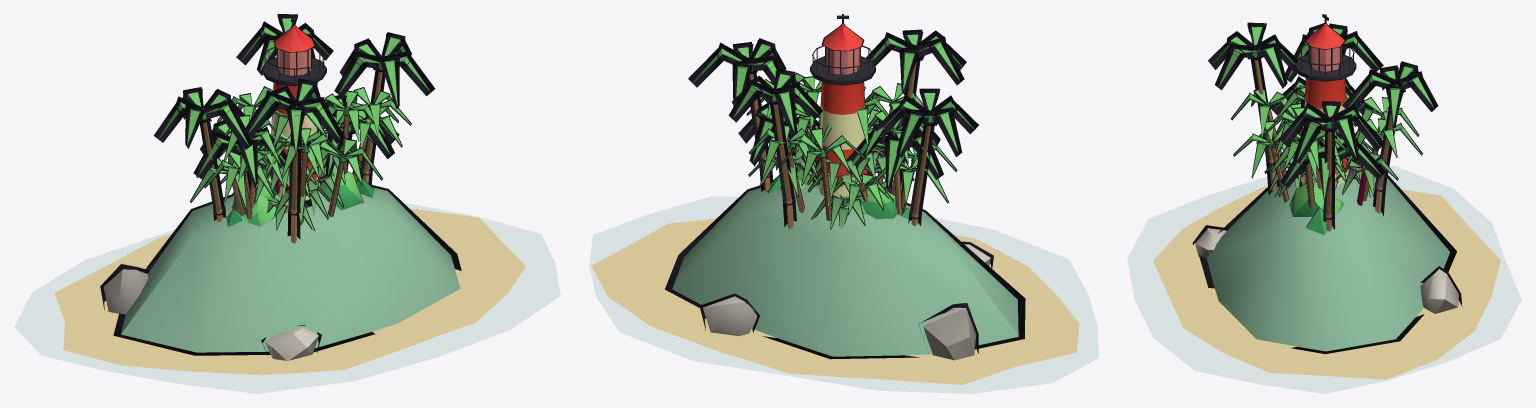
Rendered from fps-kit-island.glb.
3 views of the same model, side by side, from view 1: azimuth 30°, elevation 25°; view 2: azimuth 150°, elevation 25°; view 3: azimuth 270°, elevation 25° (orthographic). The views are drawn at different scales.
Visible parts, largest first — view 1: KIT_ISLAND_Backdrop_Islet_A, KIT_ISLAND_Landmark_Lighthouse, KIT_ISLAND_Backdrop_Palms_B, KIT_ISLAND_Backdrop_Palms_A, KIT_ISLAND_Backdrop_Jungle_A, KIT_ISLAND_Backdrop_Islet_B, KIT_ISLAND_Backdrop_Jungle_B, KIT_ISLAND_PalmClump_B; view 2: KIT_ISLAND_Backdrop_Islet_A, KIT_ISLAND_Landmark_Lighthouse, KIT_ISLAND_Backdrop_Islet_B, KIT_ISLAND_Backdrop_Jungle_B, KIT_ISLAND_Backdrop_Palms_B, KIT_ISLAND_Backdrop_Palms_A, KIT_ISLAND_Backdrop_Jungle_A, KIT_ISLAND_Lagoon, KIT_ISLAND_PalmClump_A, KIT_ISLAND_Landmark_Lookout, KIT_ISLAND_Corner_B; view 3: KIT_ISLAND_Backdrop_Islet_A, KIT_ISLAND_Landmark_Lighthouse, KIT_ISLAND_Backdrop_Palms_A, KIT_ISLAND_Backdrop_Palms_B, KIT_ISLAND_Backdrop_Islet_B, KIT_ISLAND_Backdrop_Jungle_B, KIT_ISLAND_Backdrop_Jungle_A, KIT_ISLAND_Landmark_Lookout.
Boxes of the visible parts, bbox=[...] form: KIT_ISLAND_Backdrop_Islet_A: bbox=[14, 14, 560, 393]; KIT_ISLAND_Landmark_Lighthouse: bbox=[262, 15, 326, 207]; KIT_ISLAND_Backdrop_Palms_B: bbox=[190, 86, 402, 216]; KIT_ISLAND_Backdrop_Palms_A: bbox=[204, 87, 411, 224]; KIT_ISLAND_Backdrop_Jungle_A: bbox=[218, 90, 385, 226]; KIT_ISLAND_Backdrop_Islet_B: bbox=[193, 94, 399, 196]; KIT_ISLAND_Backdrop_Jungle_B: bbox=[223, 106, 374, 214]; KIT_ISLAND_PalmClump_B: bbox=[274, 142, 361, 223]; KIT_ISLAND_Backdrop_Islet_A: bbox=[589, 29, 1098, 393]; KIT_ISLAND_Landmark_Lighthouse: bbox=[810, 14, 875, 197]; KIT_ISLAND_Backdrop_Islet_B: bbox=[738, 102, 943, 195]; KIT_ISLAND_Backdrop_Jungle_B: bbox=[783, 86, 936, 218]; KIT_ISLAND_Backdrop_Palms_B: bbox=[746, 98, 948, 221]; KIT_ISLAND_Backdrop_Palms_A: bbox=[749, 72, 957, 212]; KIT_ISLAND_Backdrop_Jungle_A: bbox=[767, 76, 918, 219]; KIT_ISLAND_Lagoon: bbox=[824, 173, 893, 214]; KIT_ISLAND_PalmClump_A: bbox=[790, 142, 888, 229]; KIT_ISLAND_Landmark_Lookout: bbox=[748, 153, 819, 197]; KIT_ISLAND_Corner_B: bbox=[807, 158, 871, 189]; KIT_ISLAND_Backdrop_Islet_A: bbox=[1127, 22, 1521, 393]; KIT_ISLAND_Landmark_Lighthouse: bbox=[1294, 14, 1356, 186]; KIT_ISLAND_Backdrop_Palms_A: bbox=[1230, 89, 1422, 207]; KIT_ISLAND_Backdrop_Palms_B: bbox=[1233, 97, 1419, 208]; KIT_ISLAND_Backdrop_Islet_B: bbox=[1271, 76, 1385, 202]; KIT_ISLAND_Backdrop_Jungle_B: bbox=[1277, 85, 1357, 216]; KIT_ISLAND_Backdrop_Jungle_A: bbox=[1259, 103, 1343, 234]; KIT_ISLAND_Landmark_Lookout: bbox=[1335, 152, 1398, 205].
Bounding box in the file's own units: 31.8 × 17.27 × 22.85.
Materials: 1 (1 with a texture image).
